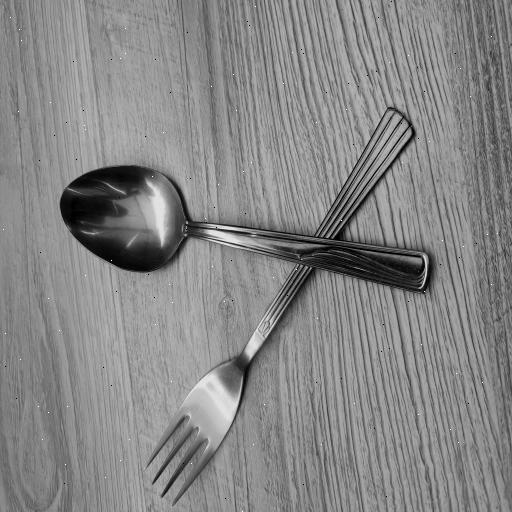fork: (149, 106, 416, 492)
spoon: (58, 164, 430, 302)
